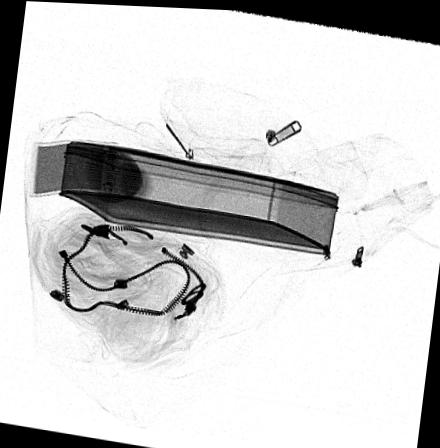Powerbank: (30, 138, 124, 201)
